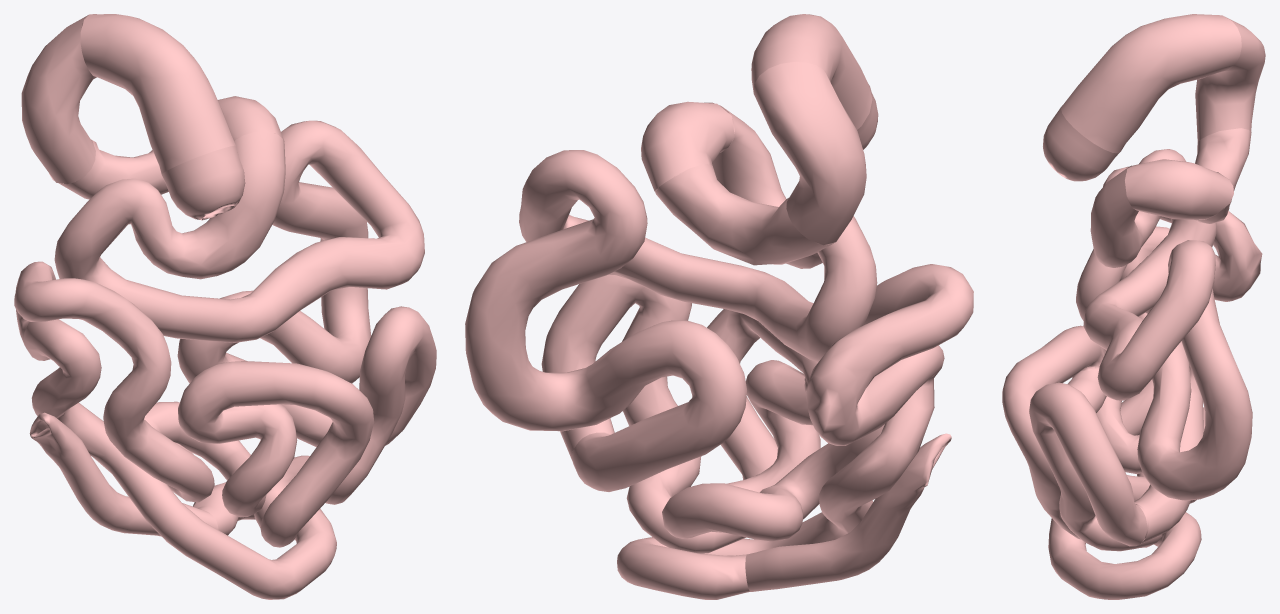
Rendered from vh_f_small_intestine-40.fbx.
3 views of the same model, side by side, from view 1: azimuth 30°, elevation 25°; view 2: azimuth 150°, elevation 25°; view 3: azimuth 270°, elevation 25° (orthographic). The views are drawn at different scales.
Visible parts, largest first — view 1: VH_F_ileum, VH_F_jejenum, VH_F_duodenum_superior, VH_F_duodenum_descending, VH_F_ileum_terminal, VH_F_duodenal_ampulla, VH_F_duodenum_horizontal, VH_F_duodenum_ascending; view 2: VH_F_ileum, VH_F_jejenum, VH_F_duodenum_descending, VH_F_ileum_terminal, VH_F_duodenum_horizontal, VH_F_duodenum_superior, VH_F_duodenum_ascending; view 3: VH_F_jejenum, VH_F_ileum, VH_F_duodenum_superior, VH_F_duodenum_ascending, VH_F_duodenum_descending, VH_F_duodenal_ampulla, VH_F_duodenum_horizontal.
Part boxes in pixels (bbox=[...]): VH_F_ileum: bbox=[14, 261, 436, 599]; VH_F_jejenum: bbox=[54, 120, 424, 447]; VH_F_duodenum_superior: bbox=[80, 14, 235, 173]; VH_F_duodenum_descending: bbox=[21, 15, 96, 184]; VH_F_ileum_terminal: bbox=[29, 412, 218, 536]; VH_F_duodenal_ampulla: bbox=[161, 145, 245, 220]; VH_F_duodenum_horizontal: bbox=[49, 139, 168, 199]; VH_F_duodenum_ascending: bbox=[218, 96, 284, 142]; VH_F_ileum: bbox=[541, 264, 973, 599]; VH_F_jejenum: bbox=[465, 102, 877, 491]; VH_F_duodenum_descending: bbox=[753, 62, 866, 245]; VH_F_ileum_terminal: bbox=[745, 433, 951, 591]; VH_F_duodenum_horizontal: bbox=[655, 164, 833, 265]; VH_F_duodenum_superior: bbox=[751, 14, 872, 129]; VH_F_duodenum_ascending: bbox=[641, 101, 734, 192]; VH_F_jejenum: bbox=[1083, 149, 1252, 543]; VH_F_ileum: bbox=[1002, 166, 1262, 599]; VH_F_duodenum_superior: bbox=[1061, 14, 1241, 153]; VH_F_duodenum_ascending: bbox=[1125, 159, 1233, 219]; VH_F_duodenum_descending: bbox=[1195, 17, 1265, 141]; VH_F_duodenal_ampulla: bbox=[1043, 105, 1120, 181]; VH_F_duodenum_horizontal: bbox=[1193, 128, 1251, 223].
Bounding box in the file's own units: 16.15 × 21.72 × 10.01.
